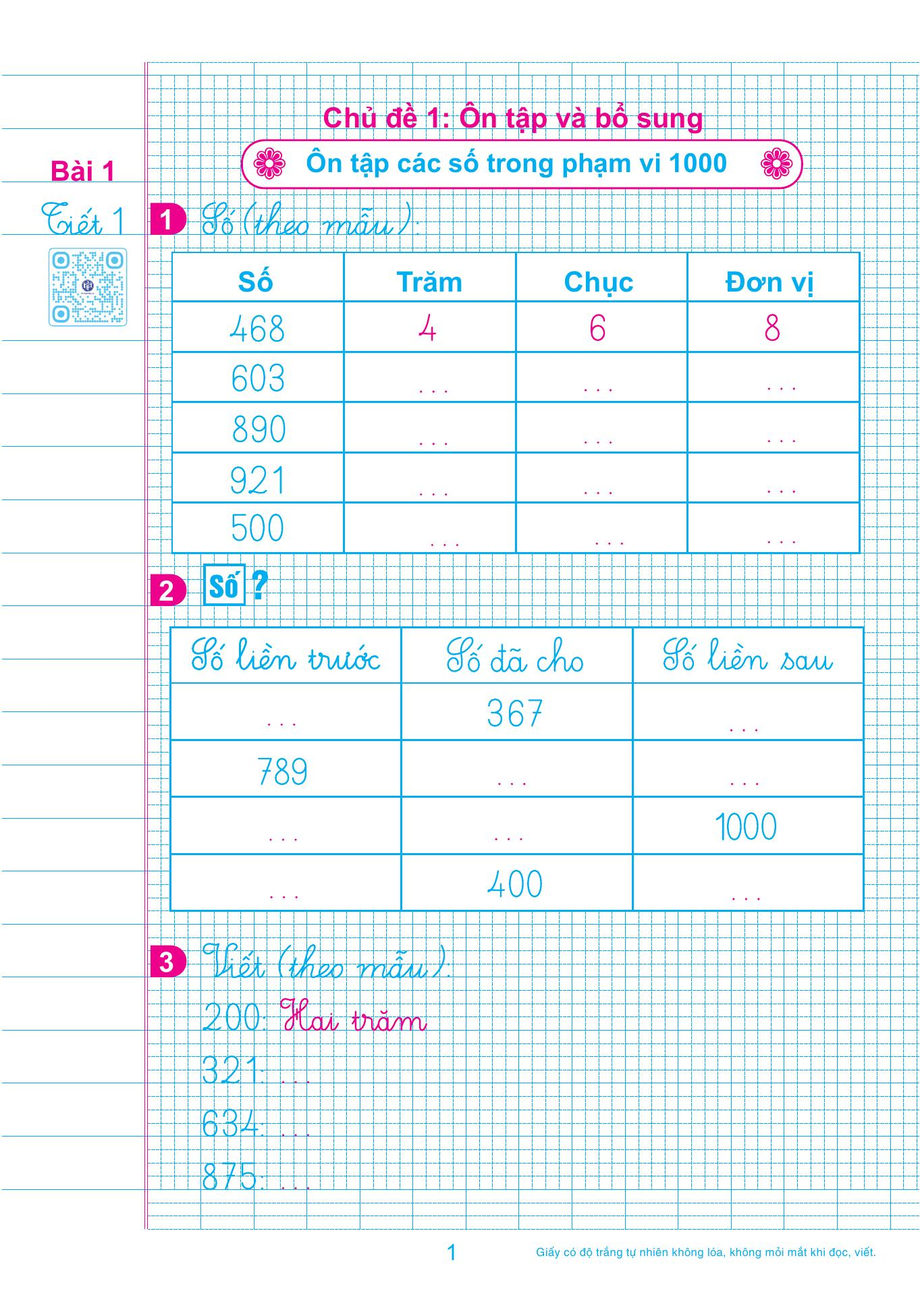Điền từ: (145, 561, 920, 926), (147, 192, 917, 559), (141, 932, 920, 1234)
